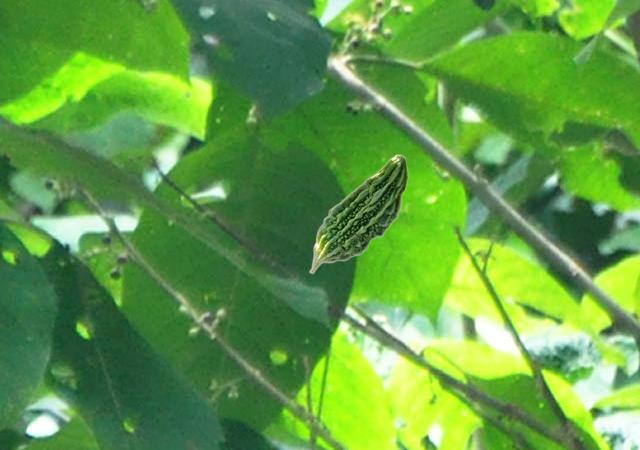ampalaya: (308, 152, 409, 274)
